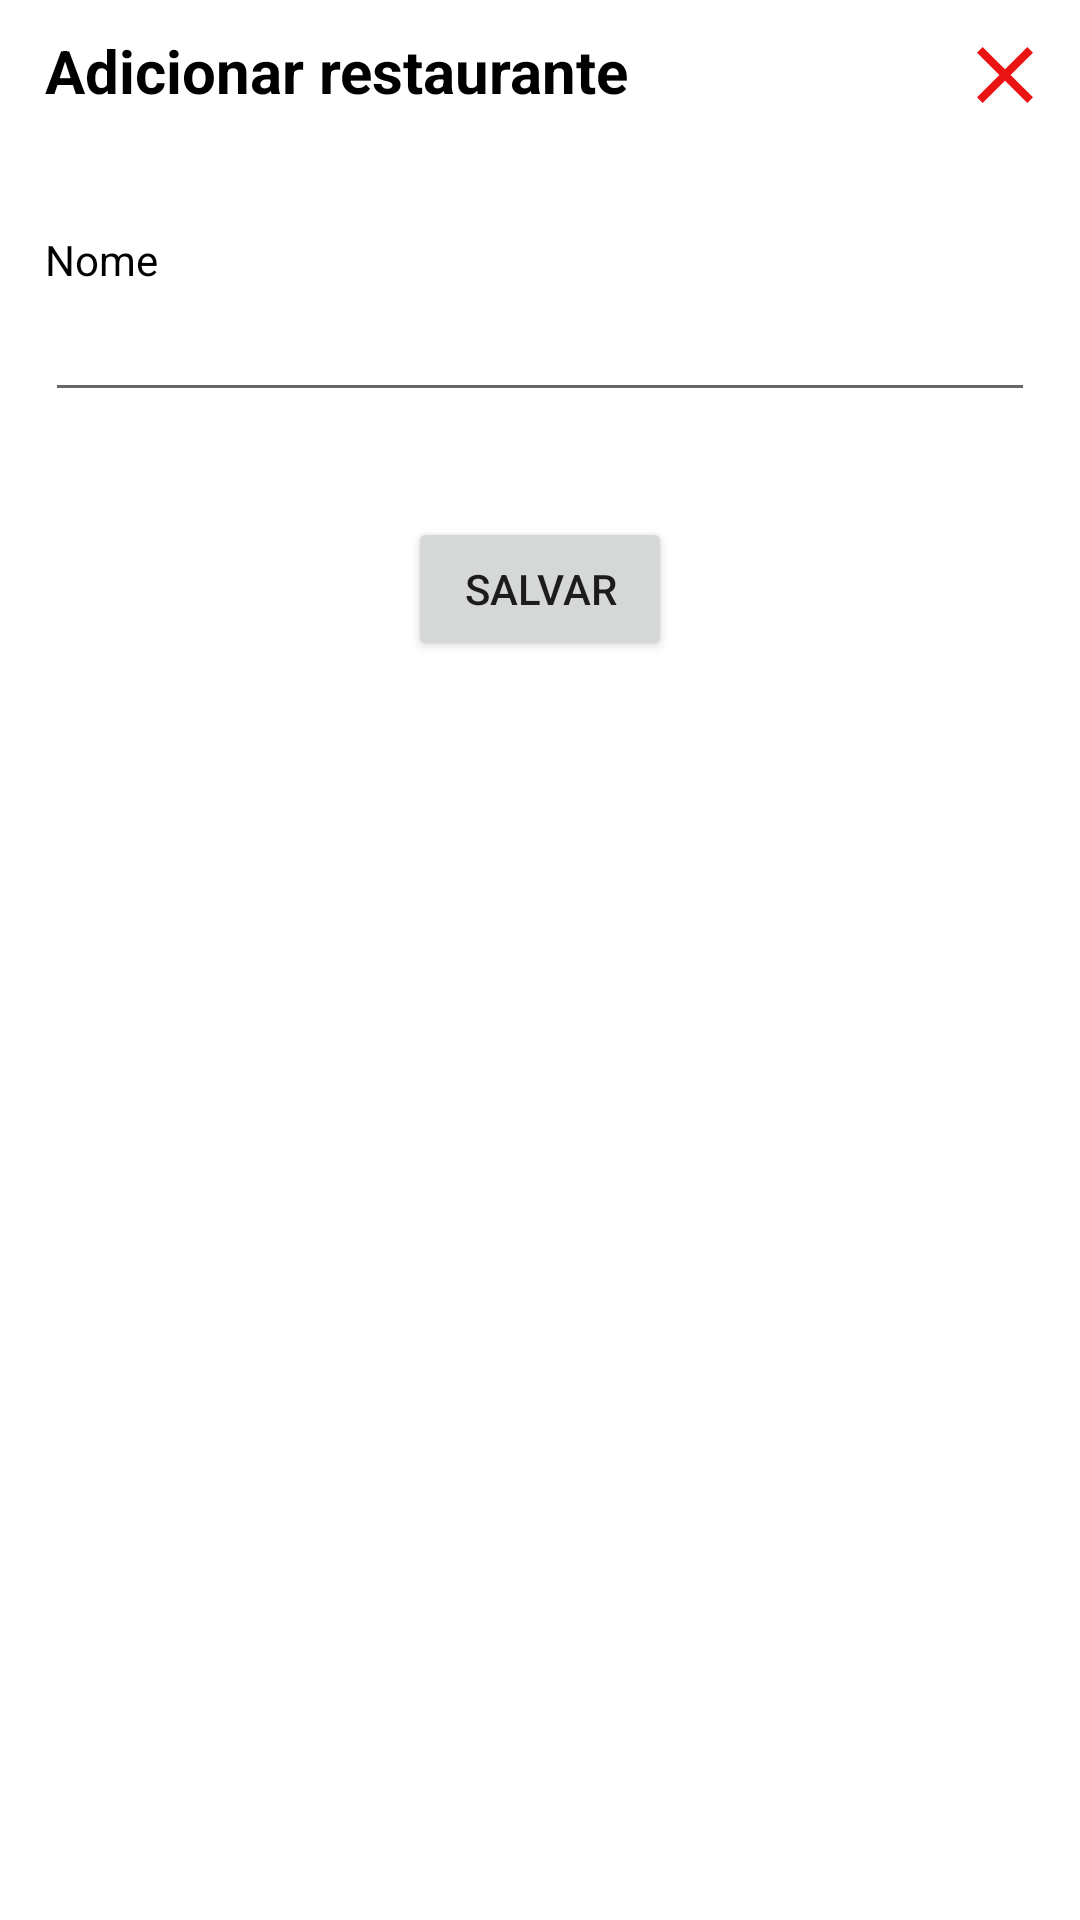

Named icons in this screenshot (1080 × 1920) and their bounding boxes, (x1, y1, x2, y2):
close: (977, 47, 1033, 103)
